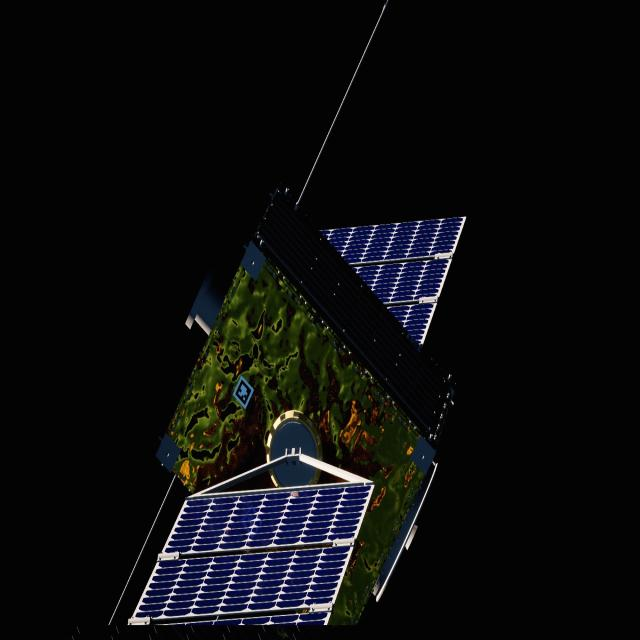satellite: (109, 187, 467, 640)
